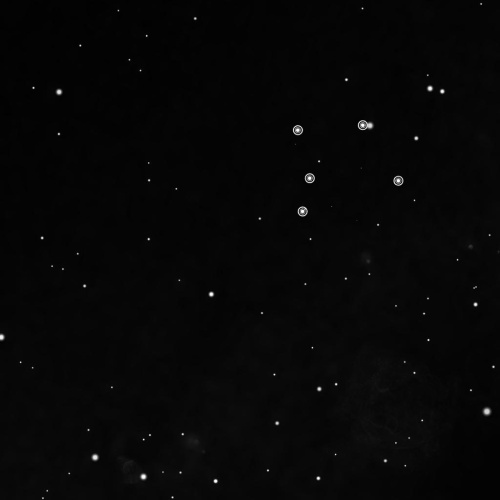libra: (284, 114, 407, 222)
